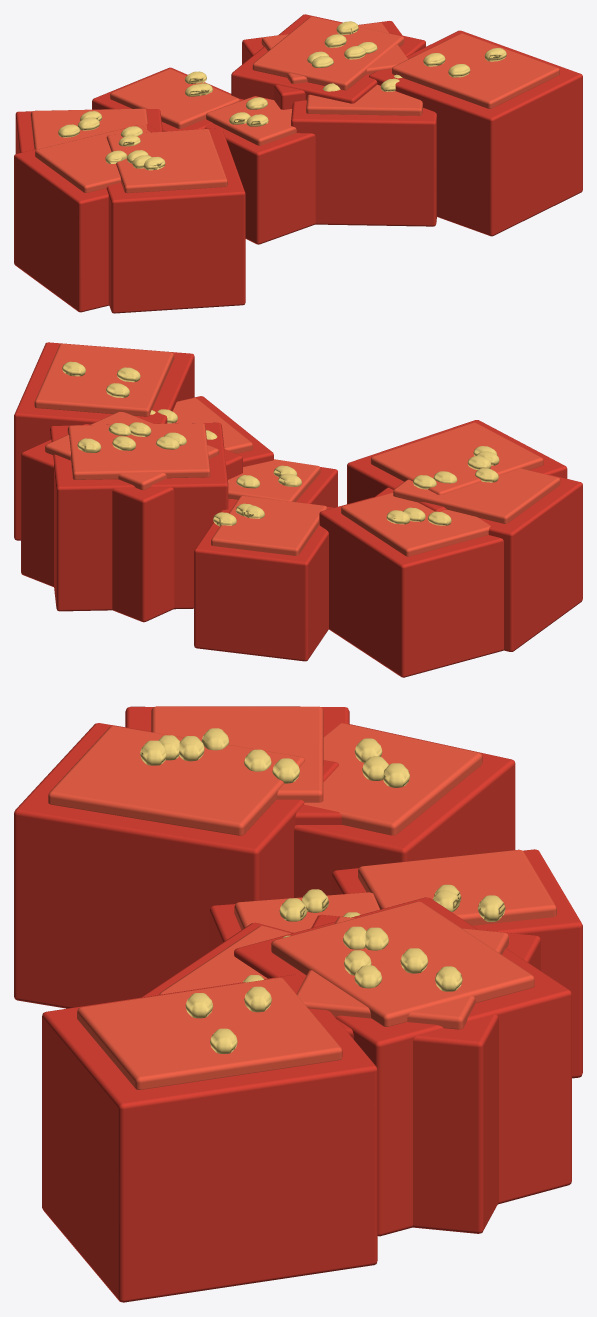
The model's file is Tomato_Chopped.glb.
3 renders of one model, top to bottom at view 1: azimuth 30°, elevation 25°; view 2: azimuth 150°, elevation 25°; view 3: azimuth 270°, elevation 25°, orthographic. The views are drawn at different scales.
Parts seen in each view (by area): view 1: Tomato_Chopped; view 2: Tomato_Chopped; view 3: Tomato_Chopped.
Part boxes in pixels (x1=…): Tomato_Chopped: x1=14, y1=14, x2=582, y2=313; Tomato_Chopped: x1=14, y1=342, x2=582, y2=677; Tomato_Chopped: x1=14, y1=706, x2=582, y2=1302.
Size of the model in its own units: 0.1186 by 0.0305 by 0.0692.
